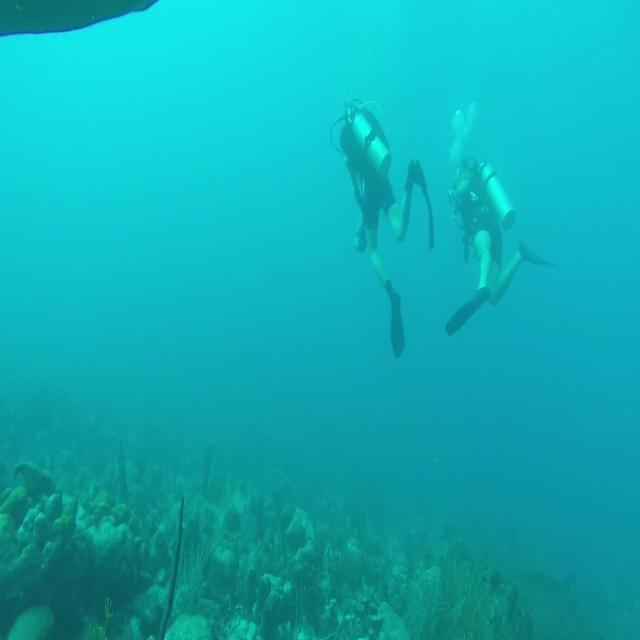human: (330, 96, 434, 358), (445, 154, 556, 337)
